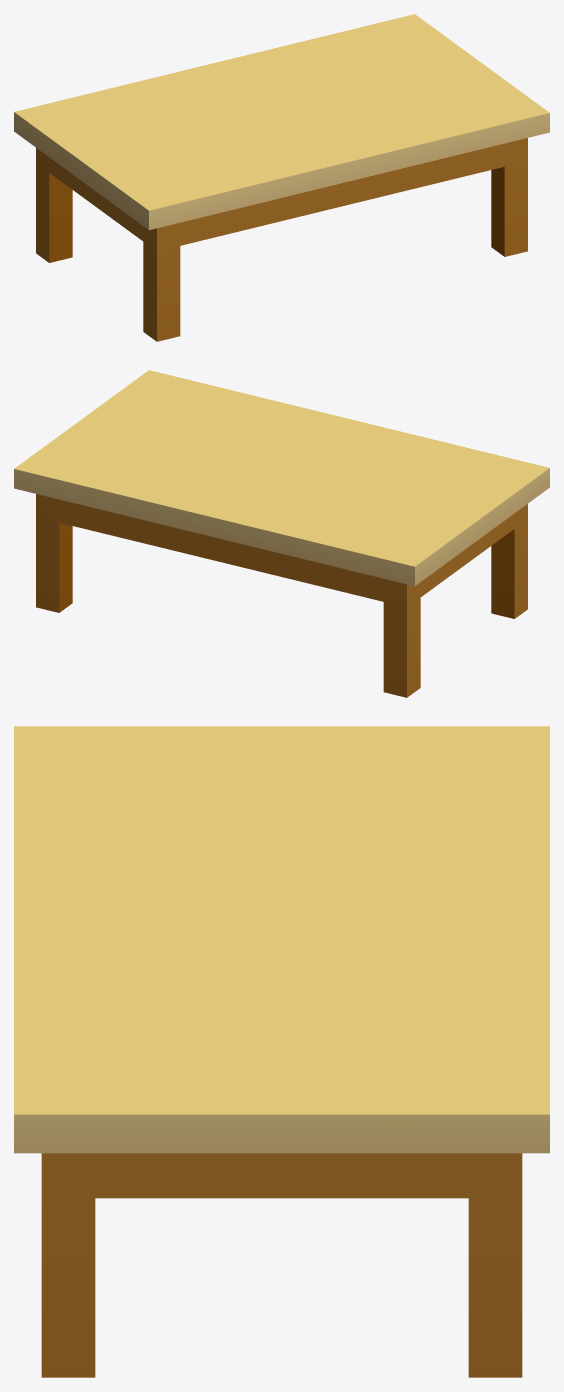
The model's file is coffeetable.glb.
The picture shows the model from 3 angles, top to bottom: view 1: azimuth 30°, elevation 25°; view 2: azimuth 150°, elevation 25°; view 3: azimuth 270°, elevation 25°; orthographic projection. The views are drawn at different scales.
Parts seen in each view (by area): view 1: CoffeeTable; view 2: CoffeeTable; view 3: CoffeeTable.
Part boxes in pixels (box(x1,y1,x2,y2)): CoffeeTable: box(14, 14, 549, 341); CoffeeTable: box(14, 370, 549, 697); CoffeeTable: box(14, 726, 549, 1377).
Size of the model in its own units: 1.2 by 0.4 by 0.7.
Materials: 1 (1 with a texture image).
